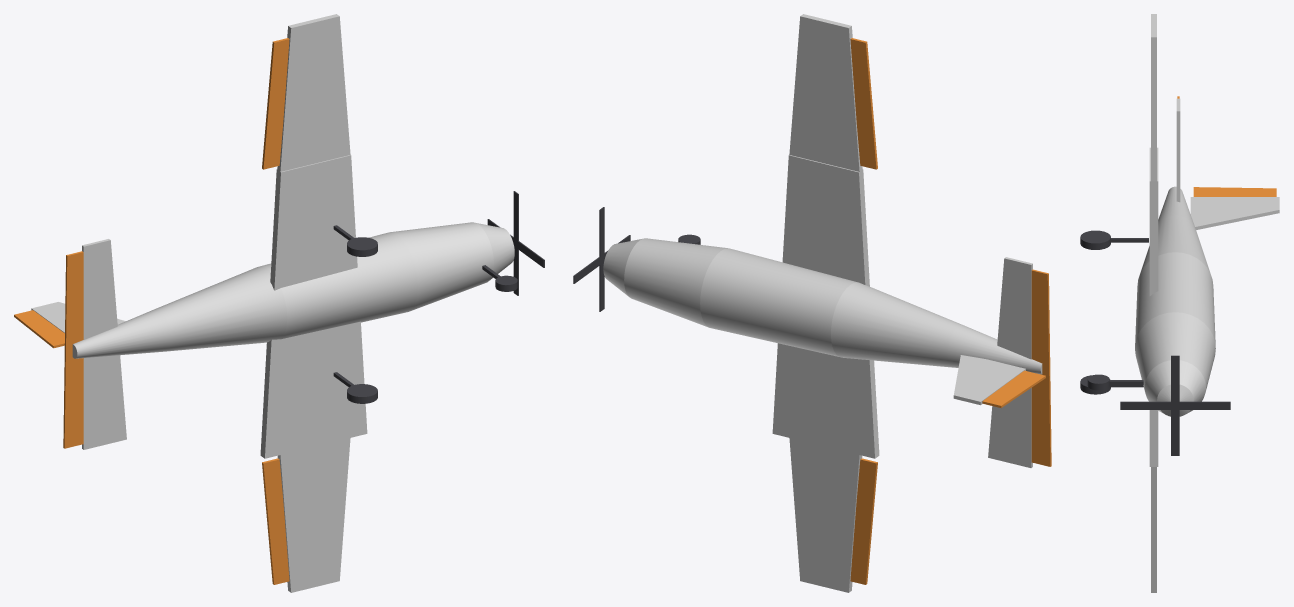
3 renders of one model, left to right at view 1: azimuth 30°, elevation 25°; view 2: azimuth 150°, elevation 25°; view 3: azimuth 270°, elevation 25°, orthographic.
Visible parts, largest first — view 1: wing, fuselage, tailplane, elevator, aileron_r, aileron_l, rudder, prop; view 2: wing, fuselage, tailplane, elevator, aileron_r, aileron_l, fin, rudder, prop; view 3: fuselage, wing, fin, prop, rudder, gear_3, tailplane, gear_1, gear_2.
Boxes of the visible parts, x1,y1,x2,y2 form: wing: [260, 14, 367, 592]; fuselage: [72, 222, 514, 358]; tailplane: [82, 239, 126, 449]; elevator: [63, 251, 83, 448]; aileron_r: [262, 38, 289, 169]; aileron_l: [262, 458, 289, 584]; rudder: [14, 310, 64, 348]; prop: [487, 191, 544, 295]; wing: [772, 14, 879, 592]; fuselage: [603, 238, 1042, 374]; tailplane: [988, 257, 1032, 467]; elevator: [1031, 269, 1051, 466]; aileron_r: [850, 38, 877, 169]; aileron_l: [850, 458, 877, 584]; fin: [953, 355, 1025, 405]; rudder: [982, 370, 1045, 407]; prop: [573, 207, 630, 311]; fuselage: [1135, 186, 1215, 416]; wing: [1149, 14, 1158, 592]; fin: [1190, 197, 1279, 229]; prop: [1120, 355, 1230, 455]; rudder: [1193, 187, 1276, 196]; gear_3: [1080, 230, 1148, 249]; tailplane: [1176, 98, 1180, 202]; gear_1: [1087, 374, 1143, 390]; gear_2: [1080, 375, 1143, 394].
Bounding box in the file's own units: 8.41 × 10 × 3.25.
